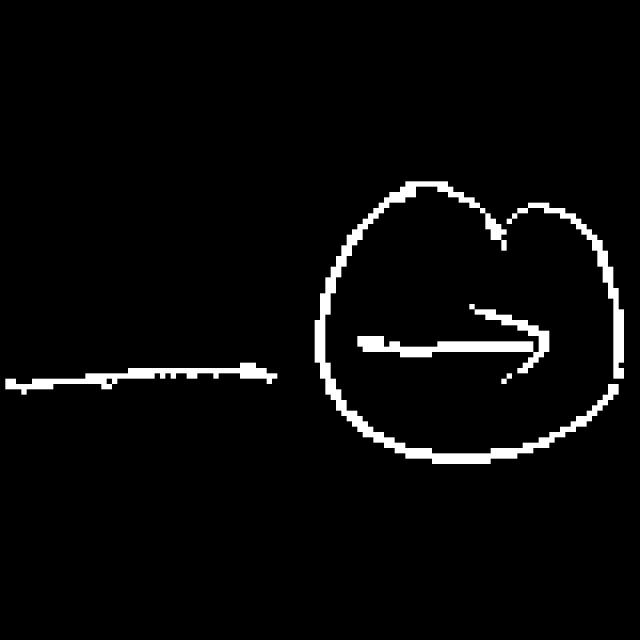current_source: (316, 159, 632, 483)
